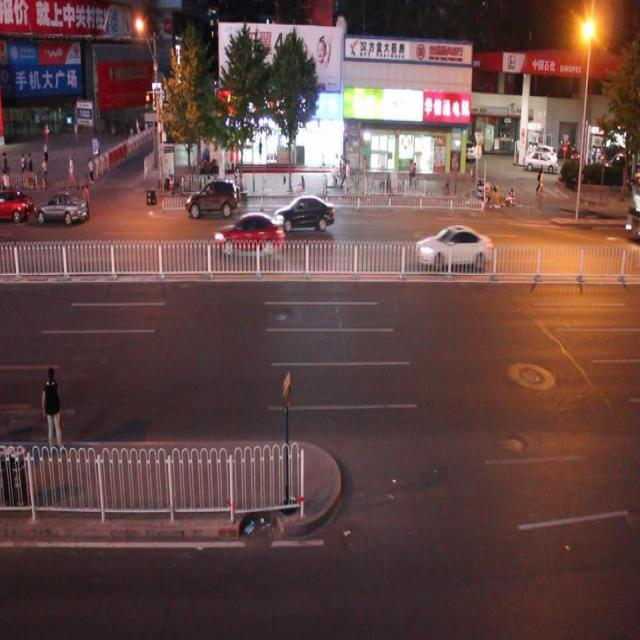car: (408, 219, 504, 281), (211, 208, 288, 268), (33, 190, 91, 238), (276, 191, 341, 230), (182, 182, 249, 219), (517, 139, 565, 179)
